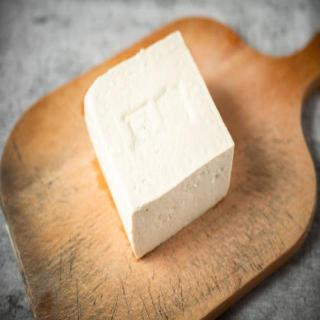Tahu: (87, 27, 241, 257)
